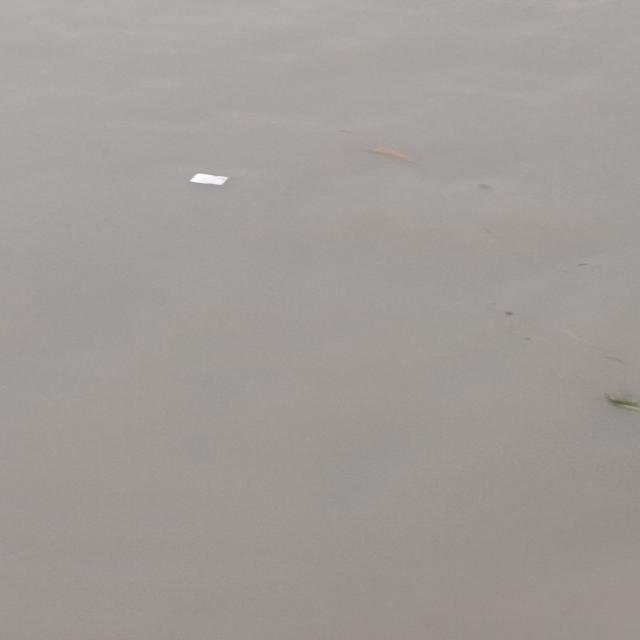Organic Debris: (601, 393, 640, 416)
Plastic: (185, 172, 232, 188)
